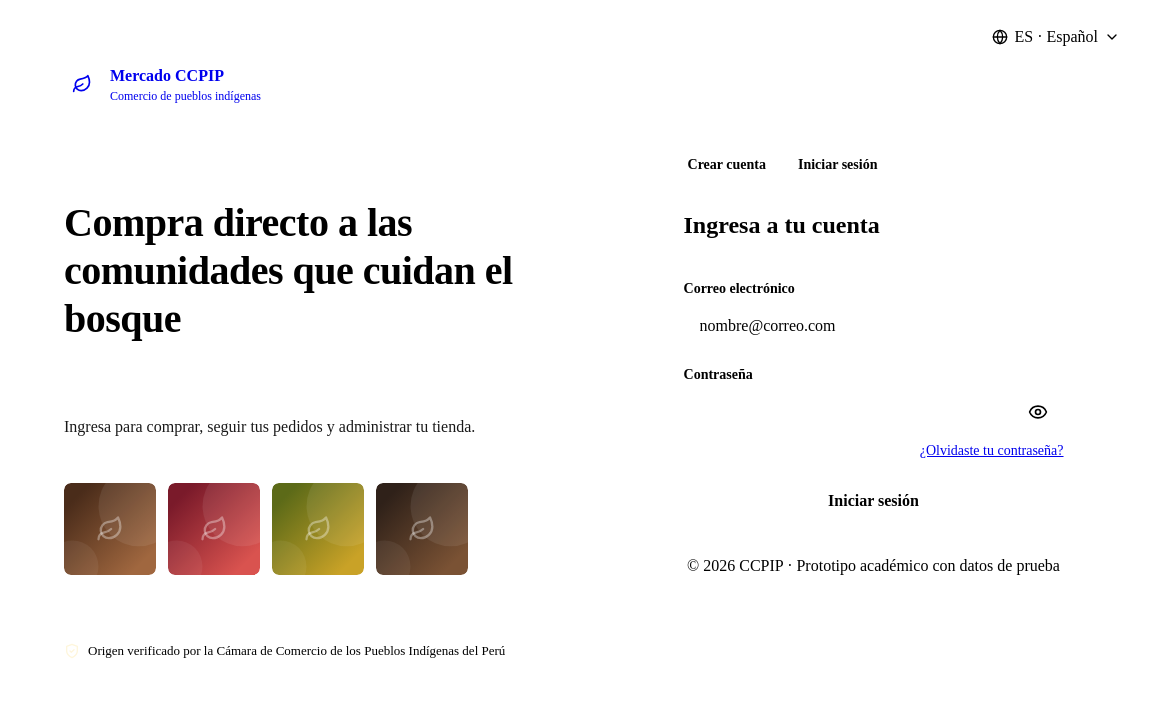
Test: Inicio de sesion (CCPIP-27) › el ojo muestra y oculta la contraseña escrita
This screenshot has width=1152, height=720.
Type "Demo1234!" into the password field labelled "Contraseña".
click(908, 412); type("Demo1234!")  # box [684,391,1132,433]
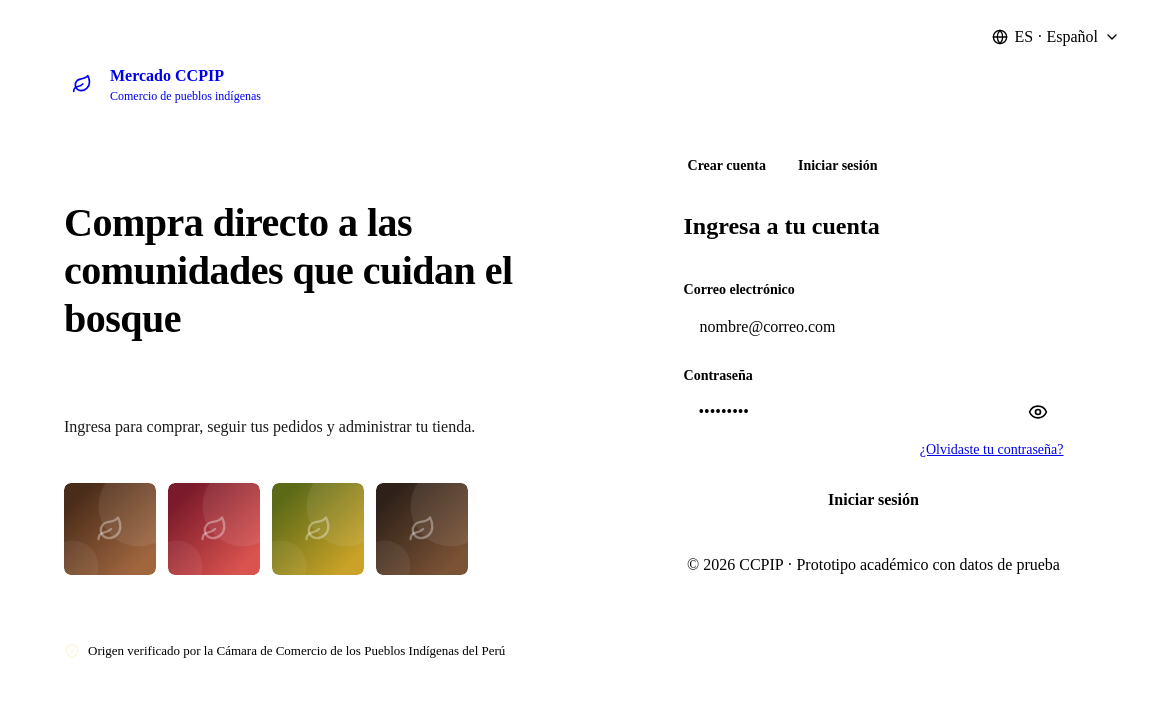
Click the button named "Mostrar contraseña".
click(1038, 412)  # box [1018,392,1058,432]
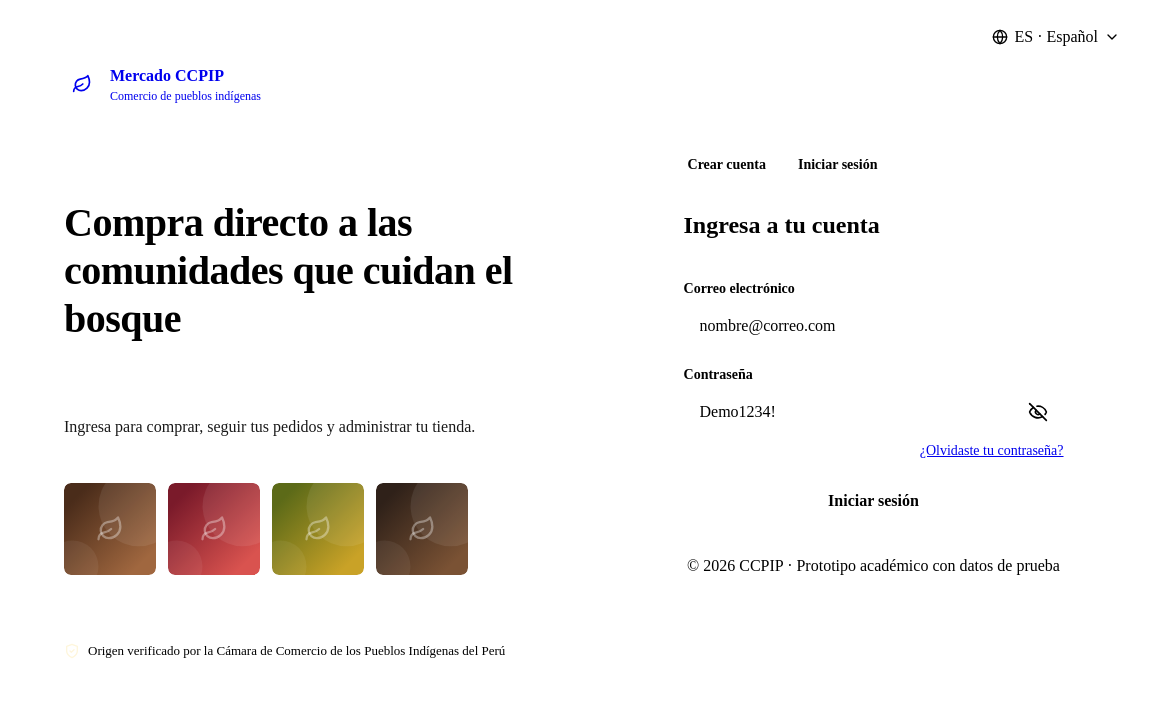
Expected: the field labelled "Contraseña" shows its text, [684,391,1132,433]
Click the button named "Ocultar contraseña".
click(1038, 412)  # box [1018,392,1058,432]
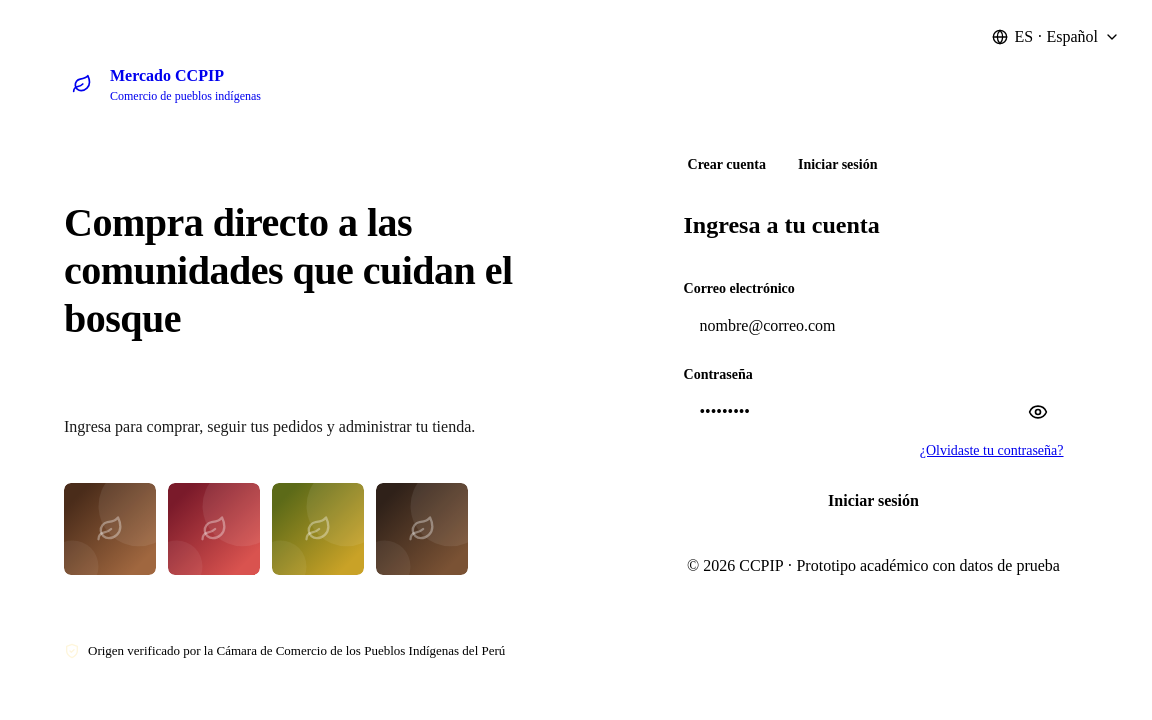
Expected: the password field labelled "Contraseña" hides its text, [684,391,1132,433]
